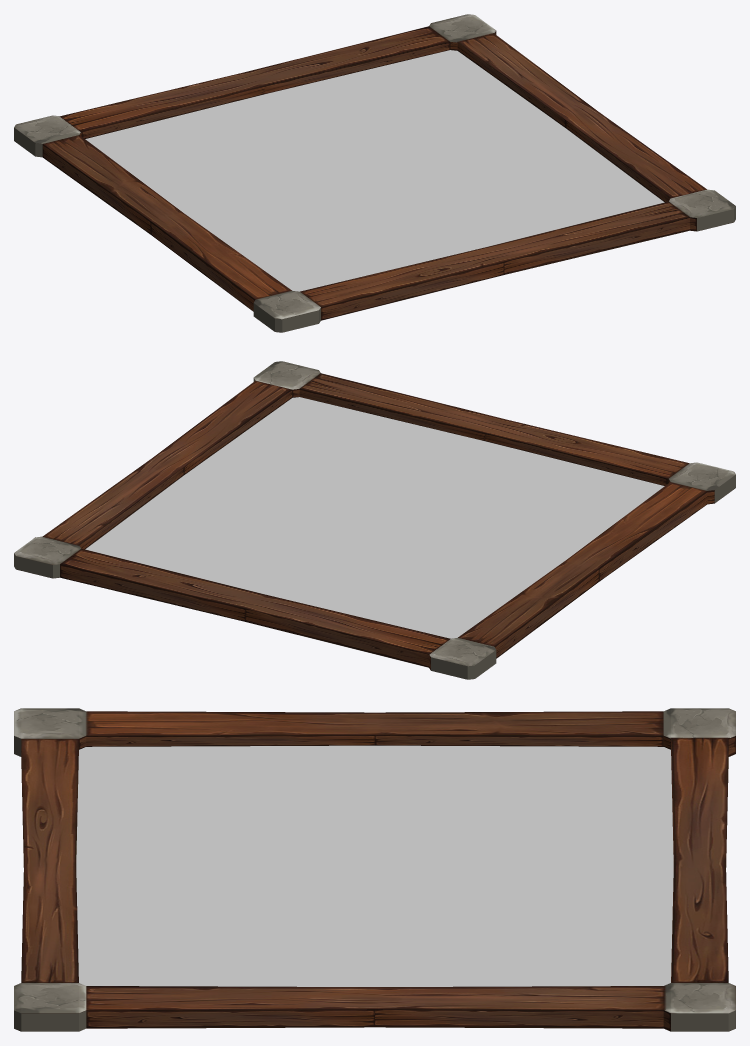
File: HS_fireTrap.fbx
The picture shows the model from 3 angles, top to bottom: view 1: azimuth 30°, elevation 25°; view 2: azimuth 150°, elevation 25°; view 3: azimuth 270°, elevation 25°; orthographic projection. The views are drawn at different scales.
Parts seen in each view (by area): view 1: Plane, Base; view 2: Plane, Base; view 3: Plane, Base.
Boxes of the visible parts, x1=… form: Plane: x1=85, y1=50, x2=664, y2=291; Base: x1=14, y1=14, x2=735, y2=332; Plane: x1=85, y1=397, x2=664, y2=638; Base: x1=14, y1=361, x2=735, y2=679; Plane: x1=76, y1=745, x2=673, y2=986; Base: x1=14, y1=708, x2=735, y2=1031.
Size of the model in its own units: 10 by 0.3 by 10.
